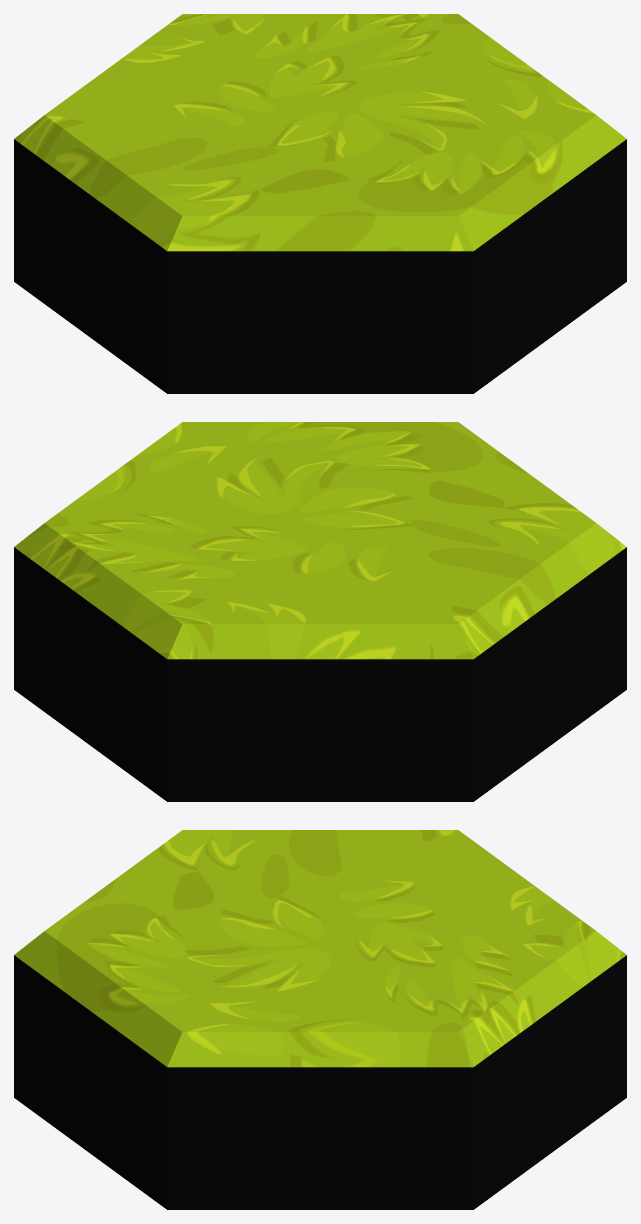
File: tile.glb
3 views of the same model, one above another, from view 1: azimuth 30°, elevation 25°; view 2: azimuth 150°, elevation 25°; view 3: azimuth 270°, elevation 25° (orthographic).
Visible parts, largest first — view 1: Cylinder; view 2: Cylinder; view 3: Cylinder.
Boxes of the visible parts, bbox=[...] form: Cylinder: bbox=[14, 14, 626, 393]; Cylinder: bbox=[14, 422, 626, 801]; Cylinder: bbox=[14, 830, 626, 1209].
Bounding box in the file's own units: 1.73 × 0.6 × 2.
Materials: 2 (1 with a texture image).
